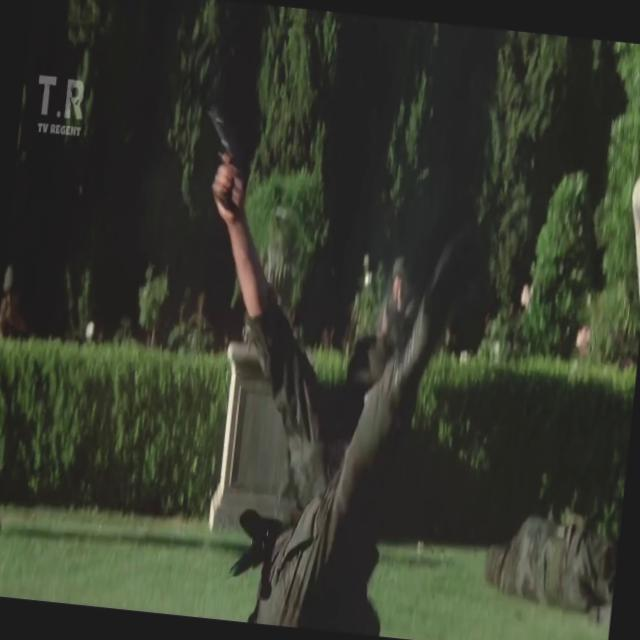handgun: (191, 94, 261, 235)
